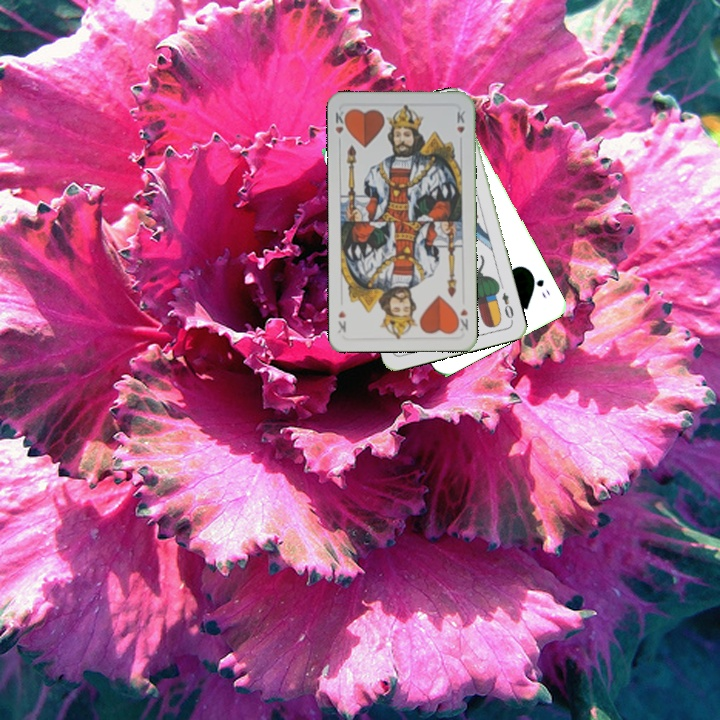EO: (498, 289, 516, 324)
GO: (527, 268, 553, 301)
HK: (331, 107, 350, 147), (453, 305, 471, 333)
